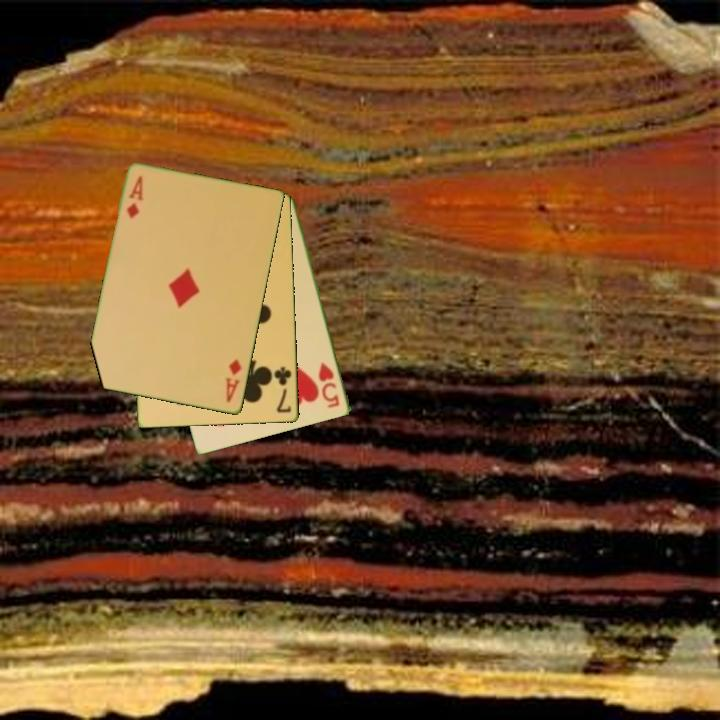5h: (315, 359, 343, 411)
7c: (271, 363, 295, 416)
Ad: (222, 356, 245, 406), (124, 173, 146, 222)
